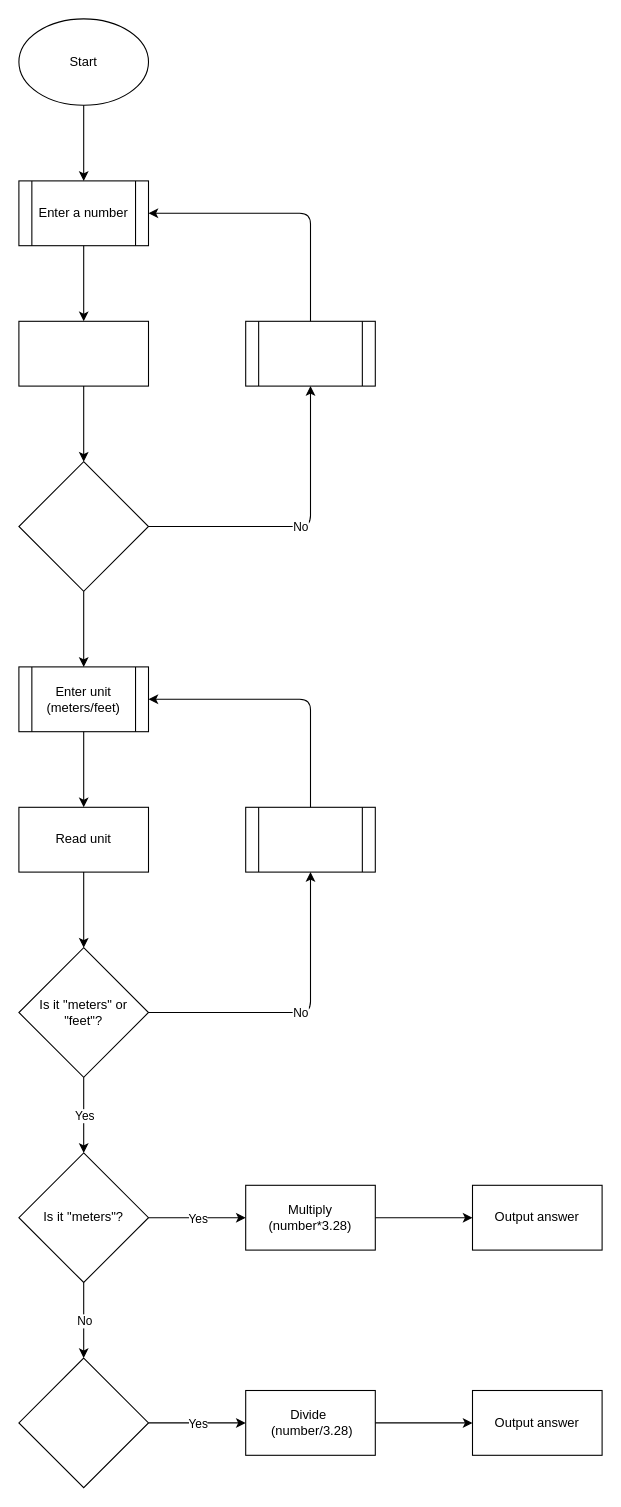
This 621x1507 diagram has some shape labels left out. Each missing label, with the centre of its shape:
Is it "feet"?: the point at 83,1422
Is it a number?: the point at 83,526
Not a number: the point at 310,353
Not a valid unit: the point at 310,839
Read number: the point at 83,353
